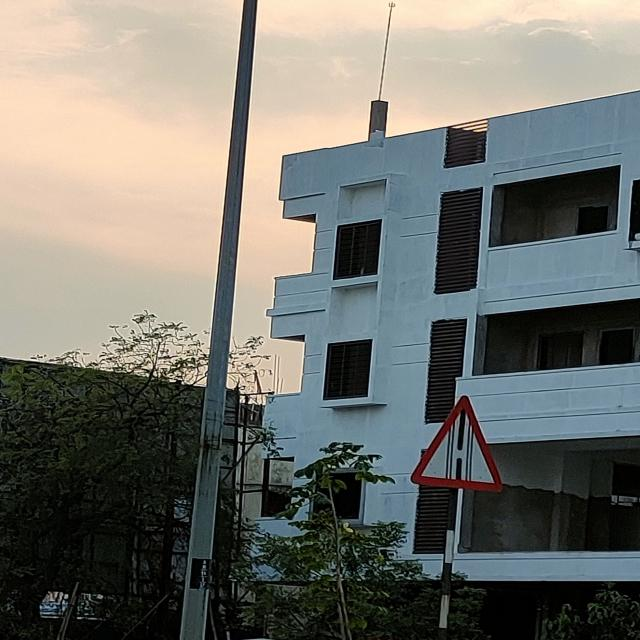ferry: (408, 397, 506, 492)
